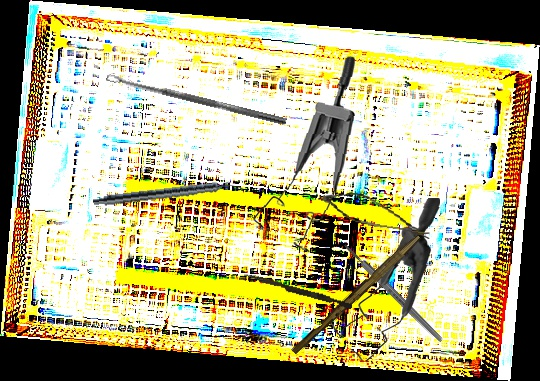Handpiece: (92, 177, 244, 211)
Micro Scissor: (319, 188, 437, 240)
Pusher: (242, 272, 354, 310)
Scalpel Handle: (290, 230, 422, 358), (342, 242, 444, 344)
Speculum: (251, 50, 359, 255), (326, 198, 446, 362)
Surgical Spoon: (105, 72, 288, 126)
